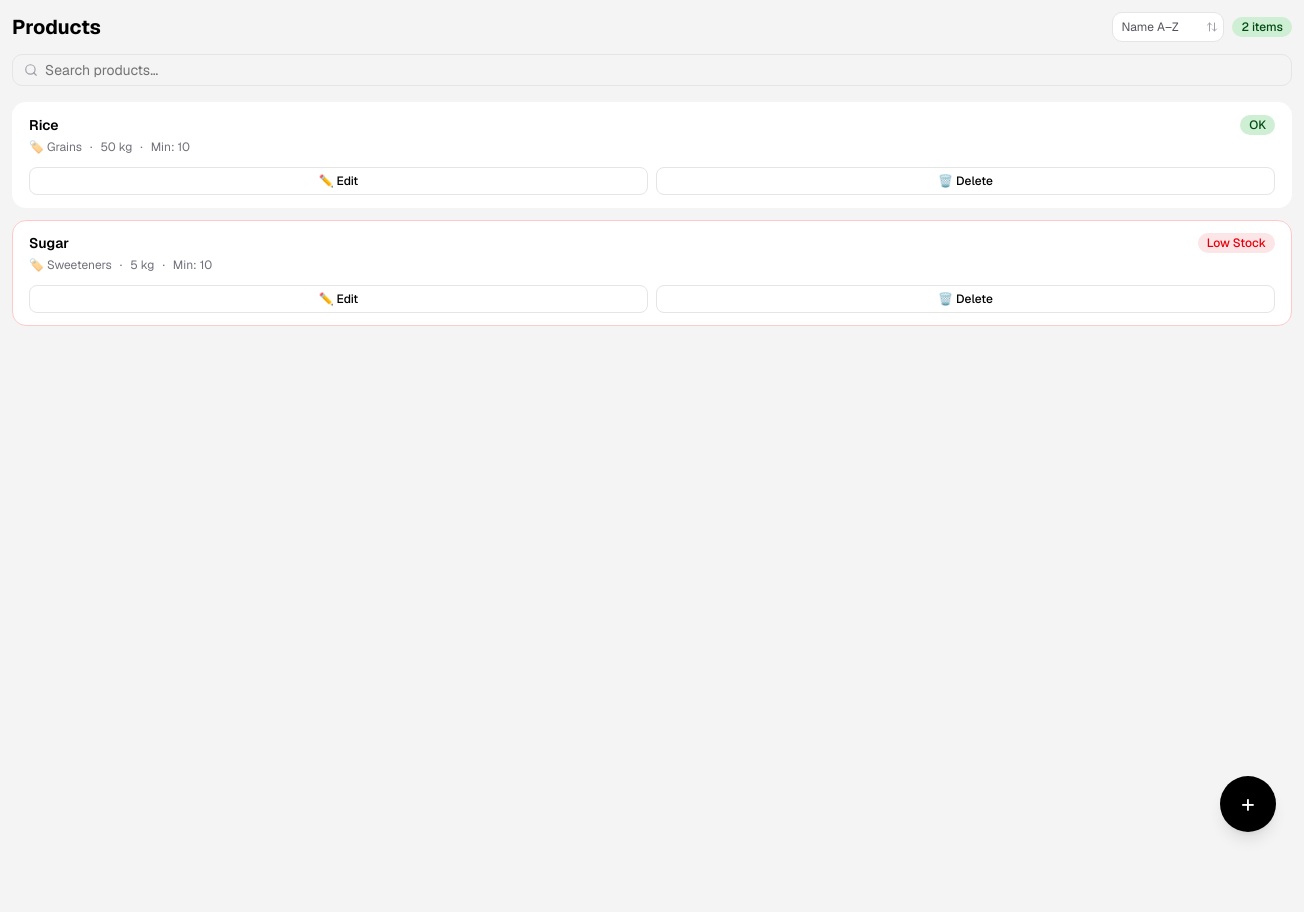
Test: ProductsClient CRUD Operations › Search and Sort › shows no results message when search matches nothing
Step 1. Type "xyzzy" into the field with placeholder "Search products…" → (652, 70), box left=12, top=54, right=1292, bottom=86
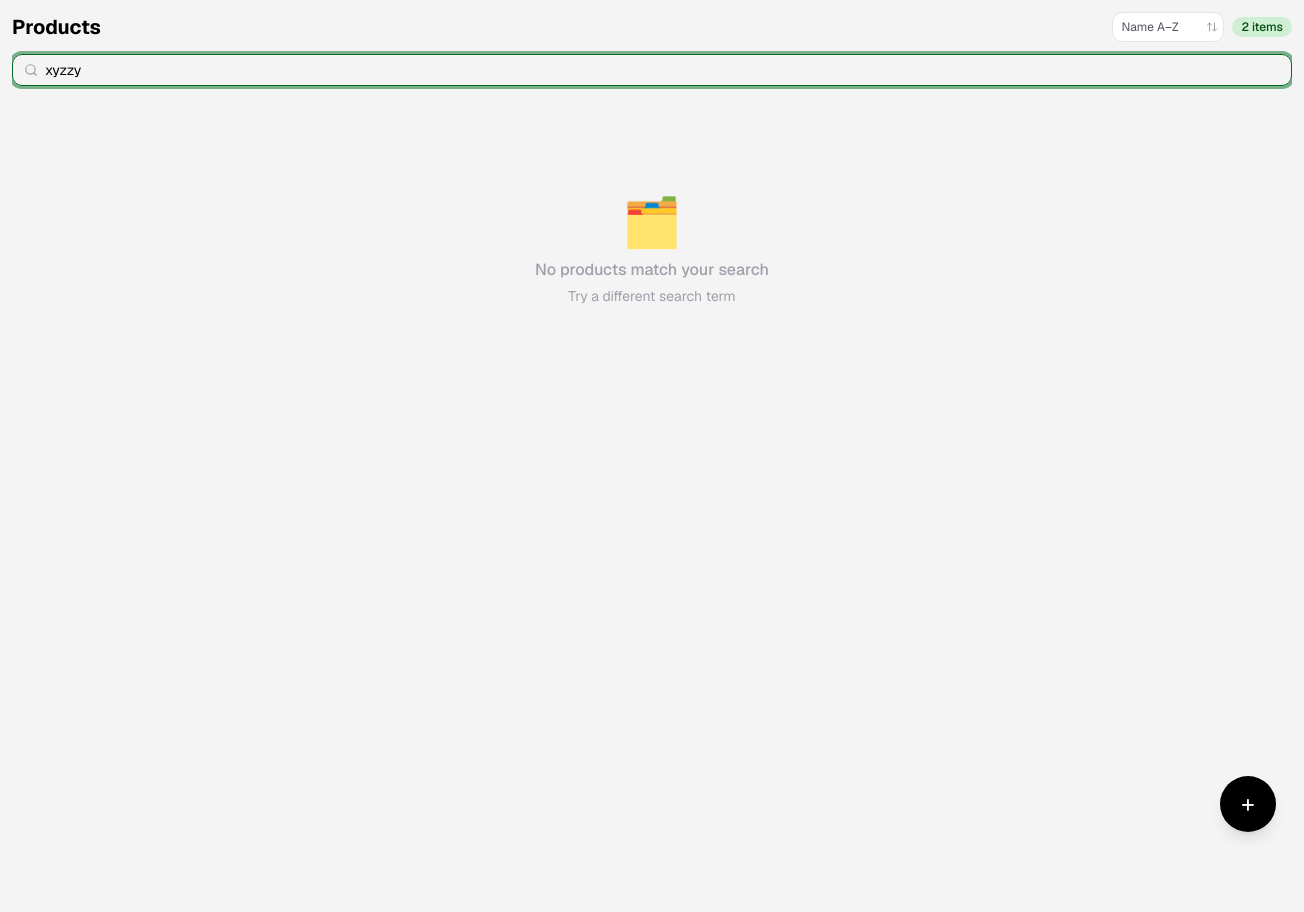
Check: the text "No products match your search" is shown, box left=535, top=259, right=769, bottom=280
